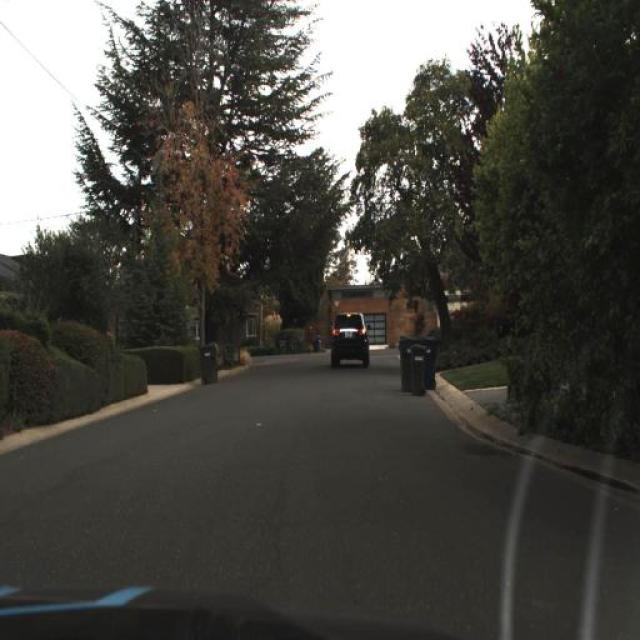car: (316, 274, 379, 384)
